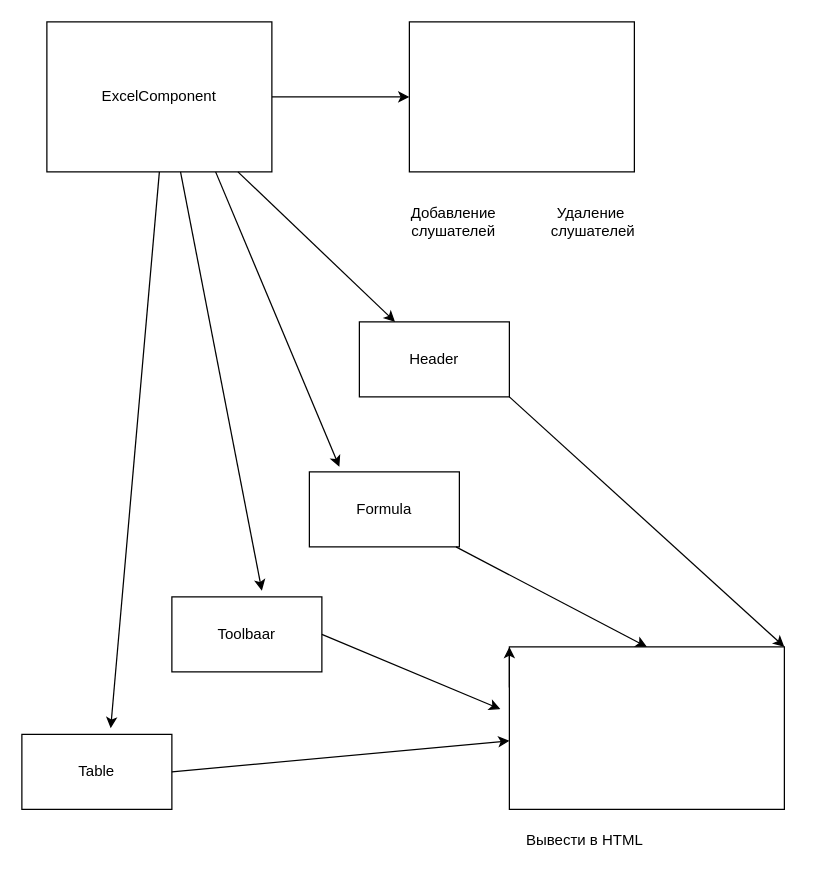
This 816x881 diagram has some shape labels left out. The centre of each missing label's shape, as x and y in pixels:
"DOM.Listener" goes at (521,96).
"Excel" goes at (646,727).
